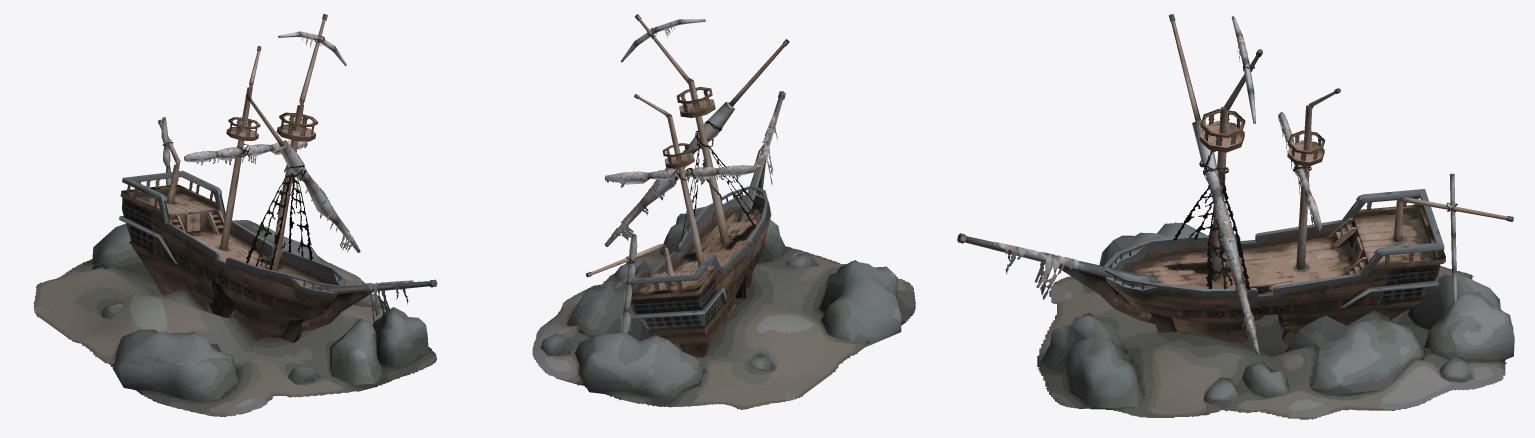
File: Sunken_Ship_texture_assignment_fixed_3DS.glb
The picture shows the model from 3 angles, left to right: view 1: azimuth 30°, elevation 25°; view 2: azimuth 150°, elevation 25°; view 3: azimuth 270°, elevation 25°; orthographic projection. The views are drawn at different scales.
Parts seen in each view (by area): view 1: Marine Park Empire model; view 2: Marine Park Empire model; view 3: Marine Park Empire model.
Part boxes in pixels (x1,y1,x2,y2): Marine Park Empire model: (33, 14, 437, 416); Marine Park Empire model: (532, 14, 915, 409); Marine Park Empire model: (957, 14, 1514, 419).
Bounding box in the file's own units: 259 × 249 × 368.
4 materials, 4 textured.
